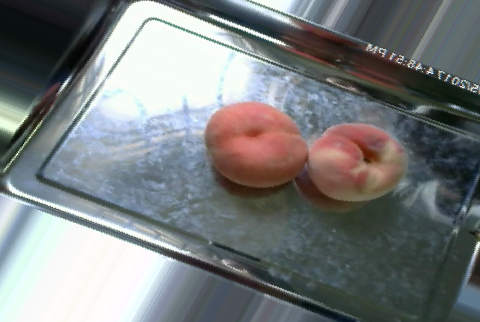Peach: (205, 101, 307, 188), (307, 121, 407, 205)
